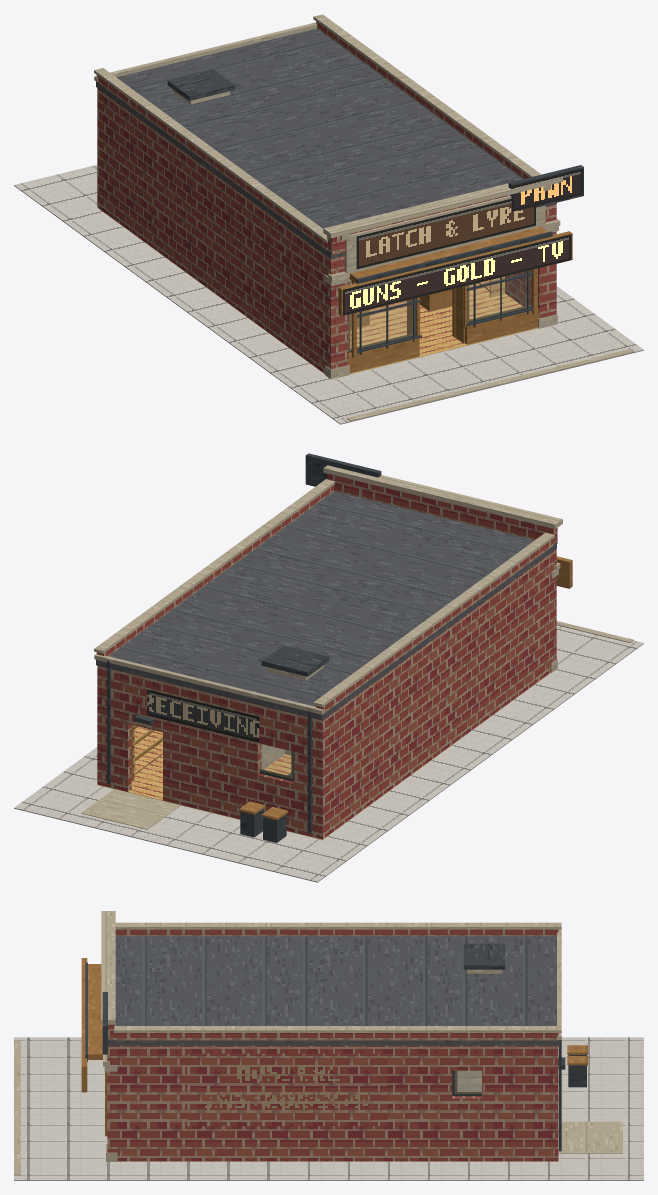
Rendered from latch-and-lyre-1960-mid.glb.
3 views of the same model, one above another, from view 1: azimuth 30°, elevation 25°; view 2: azimuth 150°, elevation 25°; view 3: azimuth 270°, elevation 25° (orthographic). The views are drawn at different scales.
Visible parts, largest first — view 1: shell, lot, sign_name, fixed_interior, display_window_east, display_window_west, window_bars_west, window_bars_east; view 2: shell, lot, fixed_interior, display_stockroom; view 3: shell, lot, fixed_interior.
Part boxes in pixels (x1,y1,x2,y2): shell: (94, 14, 583, 379); lot: (14, 165, 643, 424); sign_name: (356, 198, 535, 269); fixed_interior: (98, 208, 537, 374); display_window_east: (467, 270, 531, 323); display_window_west: (348, 281, 415, 352); window_bars_west: (357, 298, 421, 354); window_bars_east: (466, 270, 533, 327); shell: (94, 453, 572, 839); lot: (14, 621, 643, 882); fixed_interior: (98, 673, 549, 839); display_stockroom: (131, 725, 162, 781); shell: (81, 911, 565, 1161); lot: (14, 1037, 643, 1180); fixed_interior: (118, 1070, 558, 1161).
Bounding box in the file's own units: 10.5 × 5.07 × 19.55.
Materials: 12 (12 with a texture image).
